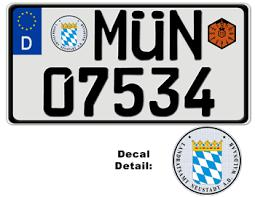0: (41, 67, 75, 117)
3: (147, 66, 181, 118)
4: (183, 64, 217, 117)
5: (110, 66, 146, 118)
7: (79, 67, 109, 118)
M: (92, 8, 131, 62)
N: (167, 11, 205, 61)
ue: (129, 10, 167, 63)
